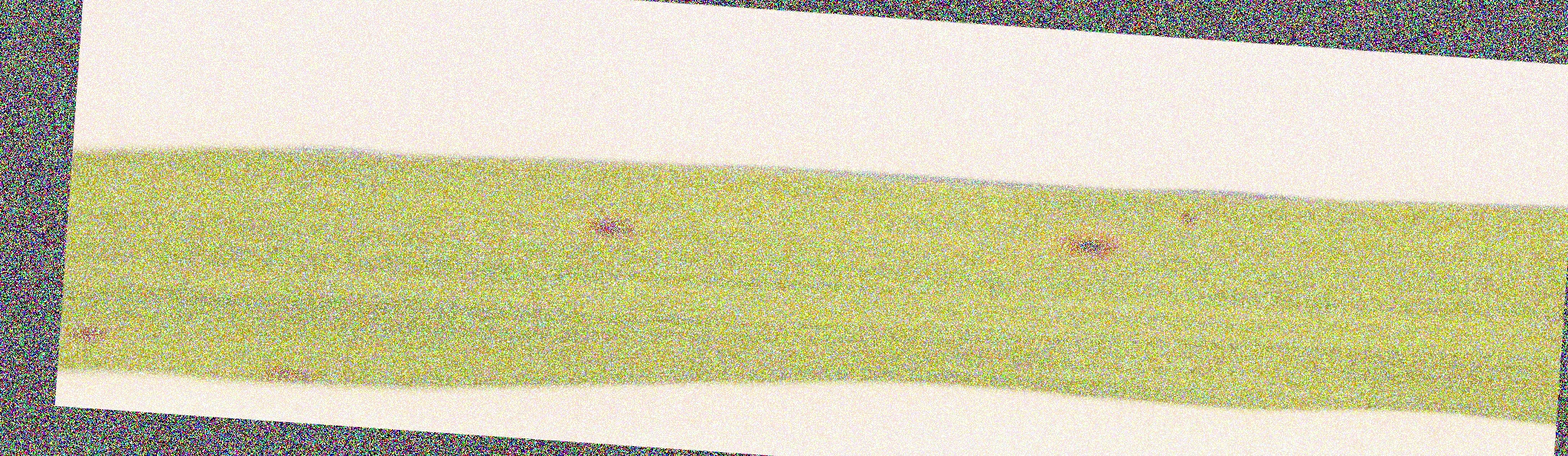Bacterial_Leaf_Blight: (558, 199, 661, 244), (1032, 229, 1149, 265), (230, 351, 326, 386), (65, 320, 121, 357), (1177, 205, 1206, 240)
